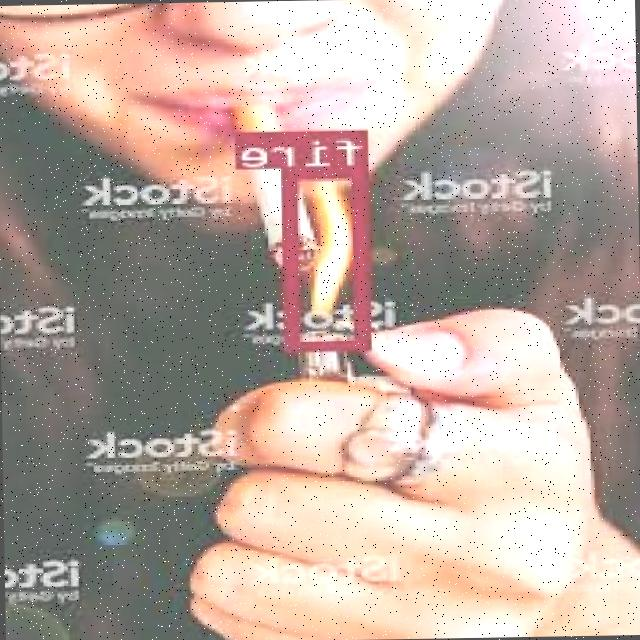fire: (286, 165, 375, 348)
